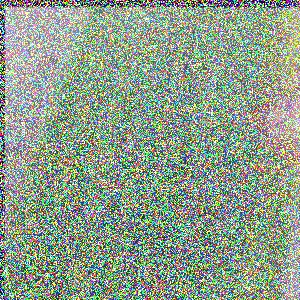Brown_Spot: (246, 68, 300, 165)
